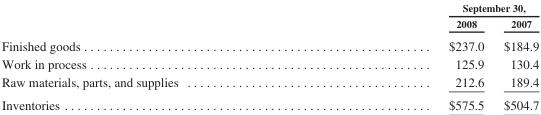table: (0, 1, 538, 112)
table column: (0, 1, 312, 112), (312, 1, 493, 112), (493, 1, 538, 112)
table column header: (0, 1, 538, 33)
table row: (0, 33, 538, 54), (0, 72, 538, 93), (0, 93, 538, 112), (0, 15, 538, 33), (0, 54, 538, 72), (0, 1, 538, 15)
table spanning cell: (312, 1, 538, 15)
